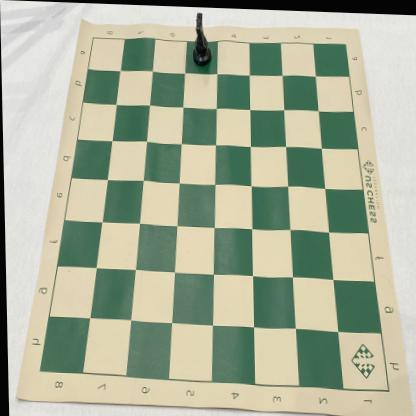black-knight: (192, 11, 212, 66)
